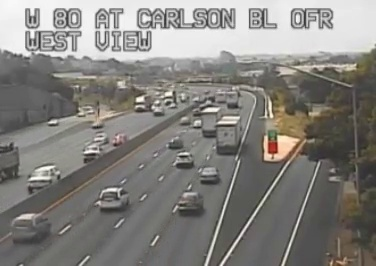car: (11, 213, 50, 241), (99, 188, 129, 209), (178, 192, 202, 212), (200, 167, 218, 183), (175, 152, 192, 166)
truck: (216, 116, 241, 154), (201, 107, 221, 136)
